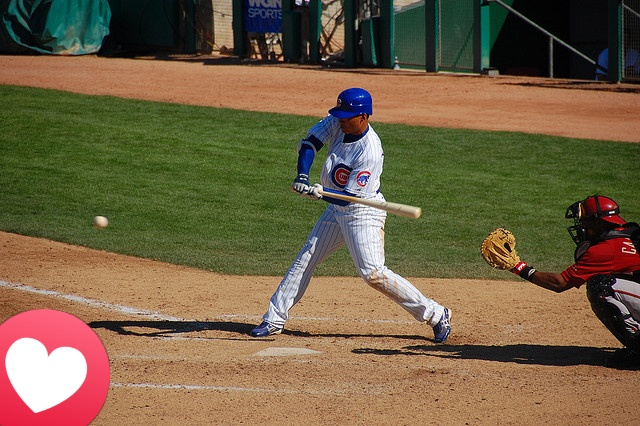love: (0, 309, 110, 426)
